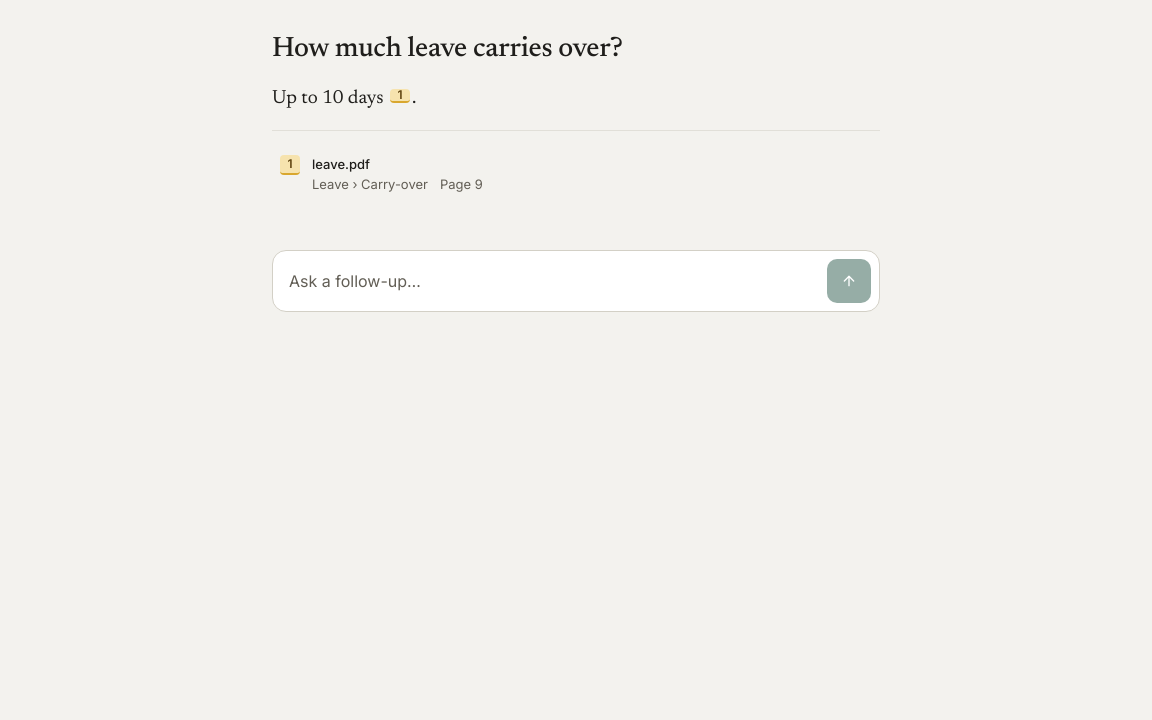
Test case: The source of a Citation › says when the document has been replaced since the answer
What coordinates should you click on to do the following:
click the button named "Source 1, leave.pdf, page 9"
I would click on:
 (400, 96)
Its box is [390,89,410,103].
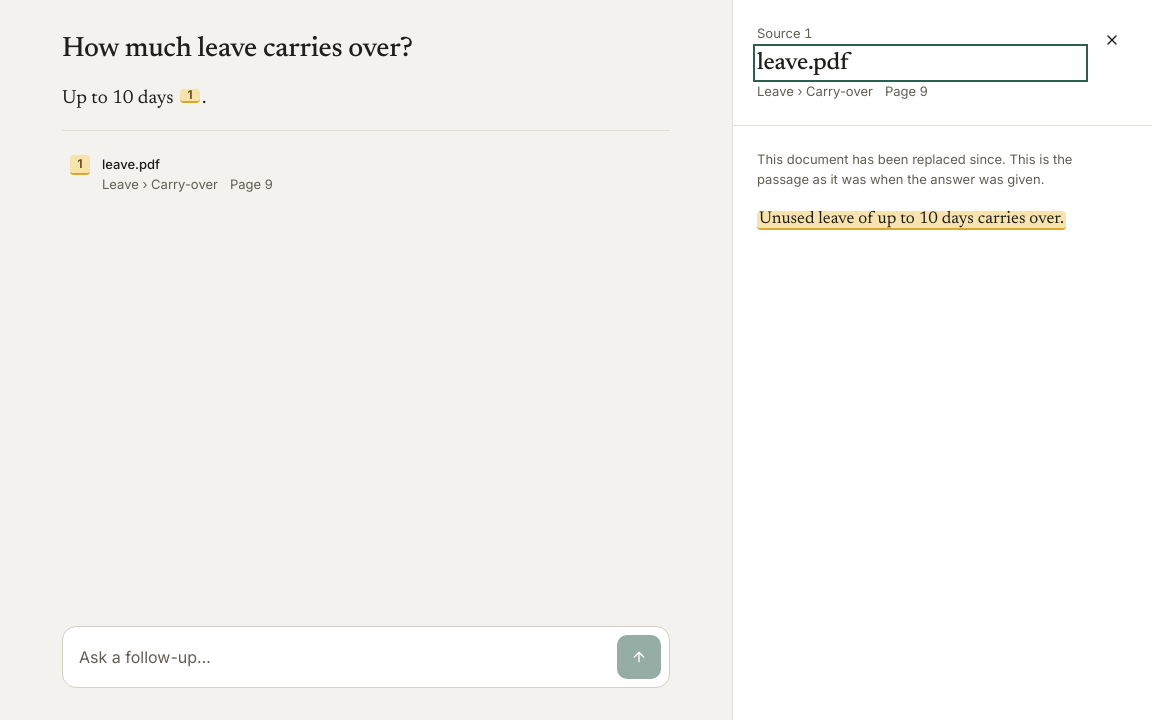
Expected: the text "This document has been replaced since" is shown, [757,151,1072,186]
Expected: the text "Unused leave of up to 10 days carries over." is shown, [757,211,1066,230]
